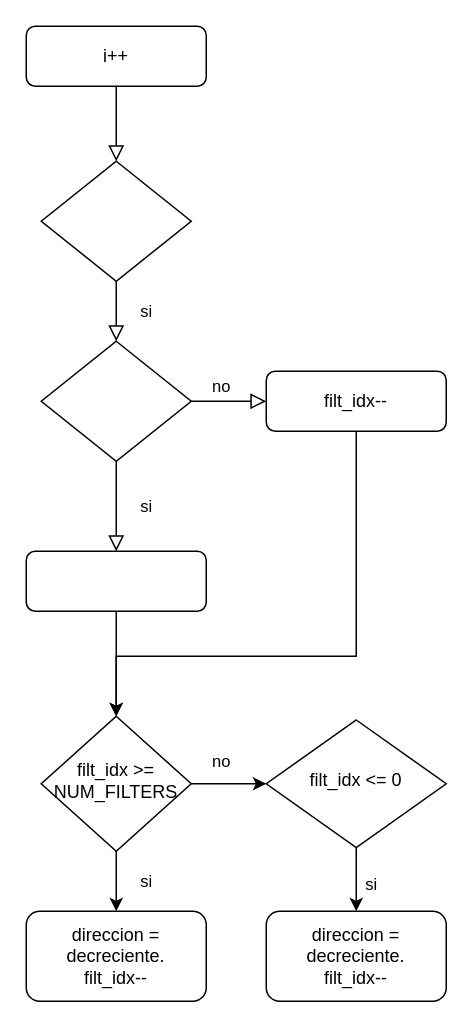
This 473x1028 diagram has some shape labels left out. Here are the shapes that lost their labels. From the top down, the centre of each, then its label:
At point (115, 220): "i%wah_vel==0".
At point (115, 400): "direccion == creciente".
At point (115, 580): "filt_idx++".
